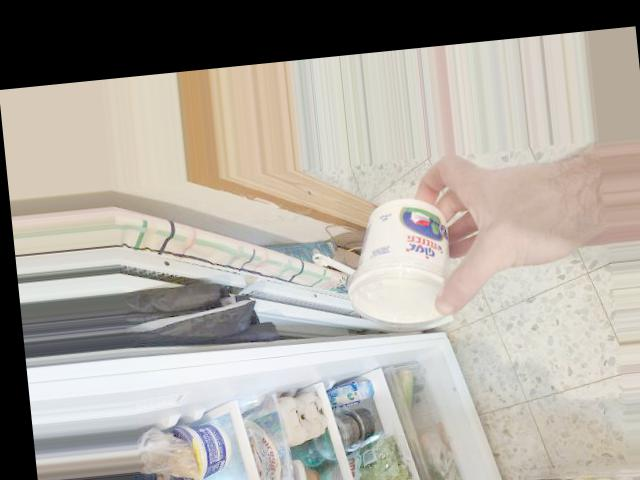cotage: (344, 193, 464, 326)
